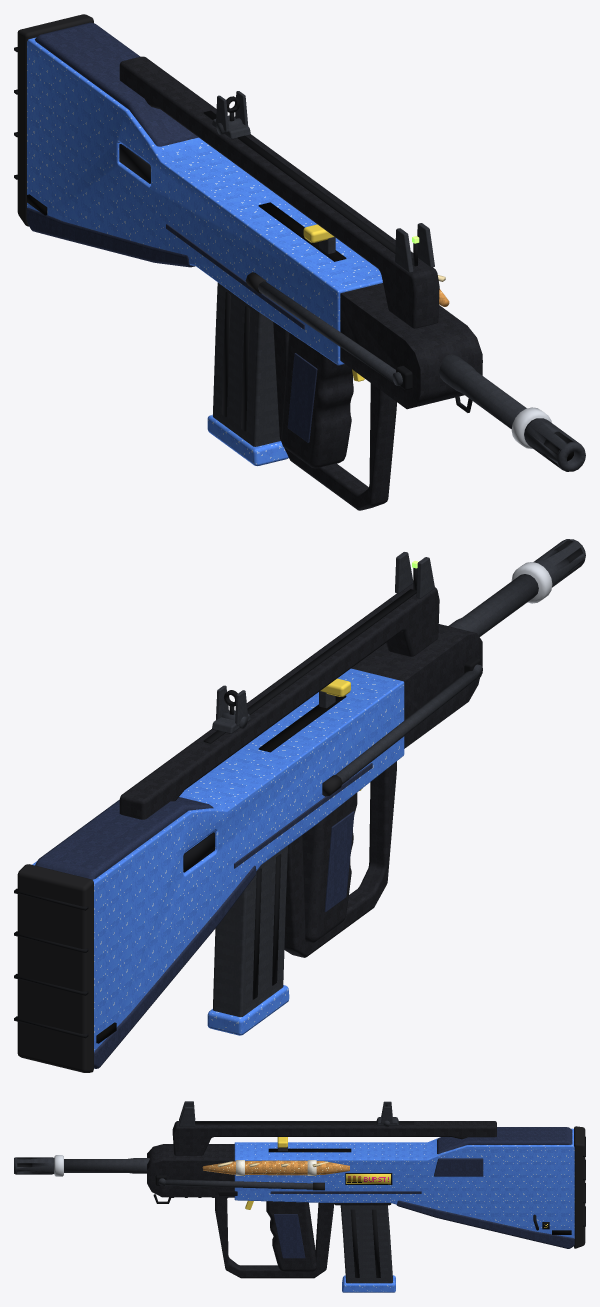
File: w_burst.glb
3 renders of one model, top to bottom at view 1: azimuth 30°, elevation 25°; view 2: azimuth 150°, elevation 25°; view 3: azimuth 270°, elevation 25°, orthographic. The views are drawn at different scales.
Visible parts, largest first — view 1: burst_body_wzA__bu_blue__p528dfc, burst_body_wzA__bu_polymer__p1a1b20, burst_body_wzA__bu_navy__p252e4a, burst_body_wzB__bu_steel__m2b2e35, mag_wzB__bu_steel__m2b2e35, burst_body_wzB__bu_dark__p111215, burst_body_wzA__bu_rubber__p1c1c1e, mag_wzA__bu_blue__p528dfc, mag_wzB__bu_dark__p111215, burst_body_wzN__bu_black__p050505, burst_body_wzB__bu_chrome__sd8dde6; view 2: burst_body_wzA__bu_blue__p528dfc, burst_body_wzA__bu_polymer__p1a1b20, burst_body_wzA__bu_rubber__p1c1c1e, burst_body_wzA__bu_navy__p252e4a, burst_body_wzB__bu_steel__m2b2e35, mag_wzB__bu_steel__m2b2e35, burst_body_wzB__bu_dark__p111215, mag_wzA__bu_blue__p528dfc, mag_wzB__bu_dark__p111215, burst_body_wzN__bu_black__p050505, burst_body_wzB__bu_chrome__sd8dde6; view 3: burst_body_wzA__bu_blue__p528dfc, burst_body_wzA__bu_polymer__p1a1b20, burst_body_wzA__bu_navy__p252e4a, burst_body_wzB__bu_steel__m2b2e35, mag_wzB__bu_steel__m2b2e35, burst_body_wzN__bu_bread__pd69850, burst_body_wzA__bu_rubber__p1c1c1e, burst_body_wzB__bu_dark__p111215, mag_wzB__bu_dark__p111215, mag_wzA__bu_blue__p528dfc, burst_body_wzN__bu_sticker__pd1a644, burst_body_wzN__bu_black__p050505 (+1 smaller).
Part boxes in pixels (x1,y1,x2,y2): burst_body_wzA__bu_blue__p528dfc: (27,37,382,365); burst_body_wzA__bu_polymer__p1a1b20: (119,56,482,510); burst_body_wzA__bu_navy__p252e4a: (26,22,317,442); burst_body_wzB__bu_steel__m2b2e35: (212,91,585,471); mag_wzB__bu_steel__m2b2e35: (213,282,280,446); burst_body_wzB__bu_dark__p111215: (14,47,572,467); burst_body_wzA__bu_rubber__p1c1c1e: (17,14,266,293); mag_wzA__bu_blue__p528dfc: (207,414,288,466); mag_wzB__bu_dark__p111215: (221,292,250,431); burst_body_wzN__bu_black__p050505: (27,194,573,461); burst_body_wzB__bu_chrome__sd8dde6: (511,407,551,448); burst_body_wzA__bu_blue__p528dfc: (32,668,404,1052); burst_body_wzA__bu_polymer__p1a1b20: (119,583,482,957); burst_body_wzA__bu_rubber__p1c1c1e: (17,775,342,1072); burst_body_wzA__bu_navy__p252e4a: (35,763,372,1068); burst_body_wzB__bu_steel__m2b2e35: (212,539,585,784); mag_wzB__bu_steel__m2b2e35: (213,845,287,1016); burst_body_wzB__bu_dark__p111215: (14,540,582,1038); mag_wzA__bu_blue__p528dfc: (207,985,289,1035); mag_wzB__bu_dark__p111215: (252,854,281,999); burst_body_wzN__bu_black__p050505: (96,695,346,1043); burst_body_wzB__bu_chrome__sd8dde6: (511,562,552,603); burst_body_wzA__bu_blue__p528dfc: (234,1128,574,1238); burst_body_wzA__bu_polymer__p1a1b20: (147,1121,496,1278); burst_body_wzA__bu_navy__p252e4a: (270,1127,574,1258); burst_body_wzB__bu_steel__m2b2e35: (14,1101,398,1189); mag_wzB__bu_steel__m2b2e35: (340,1205,392,1283); burst_body_wzN__bu_bread__pd69850: (202,1160,349,1175); burst_body_wzA__bu_rubber__p1c1c1e: (313,1126,585,1248); burst_body_wzB__bu_dark__p111215: (17,1104,585,1230); mag_wzB__bu_dark__p111215: (350,1209,380,1277); mag_wzA__bu_blue__p528dfc: (342,1275,395,1292); burst_body_wzN__bu_sticker__pd1a644: (345,1173,392,1184); burst_body_wzN__bu_black__p050505: (268,1148,571,1234).
Size of the model in its own units: 0.1376 by 0.432 by 1.21.
17 materials, 8 textured.
